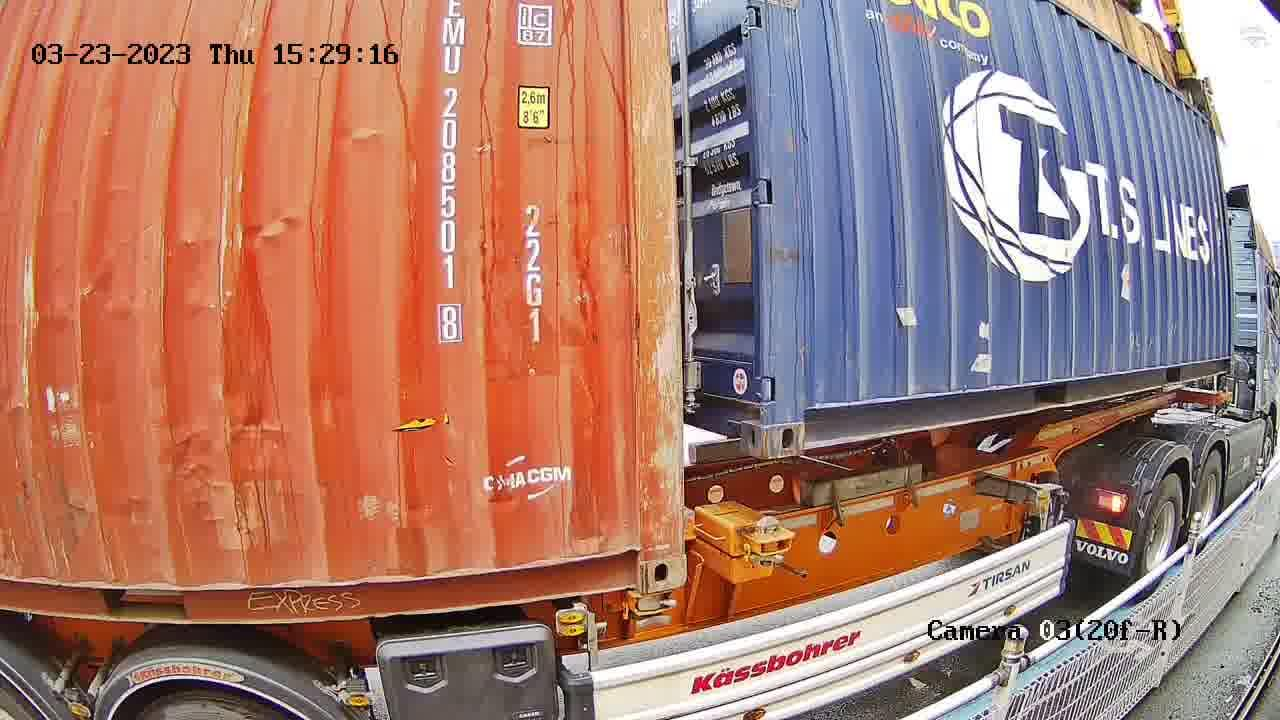Cone: (744, 514, 794, 570), (626, 590, 678, 631)
Hole_L: (764, 380, 831, 459)
Hole_R: (605, 515, 686, 591), (718, 384, 765, 459)
Tire: (1139, 475, 1183, 593), (1191, 452, 1222, 552)
